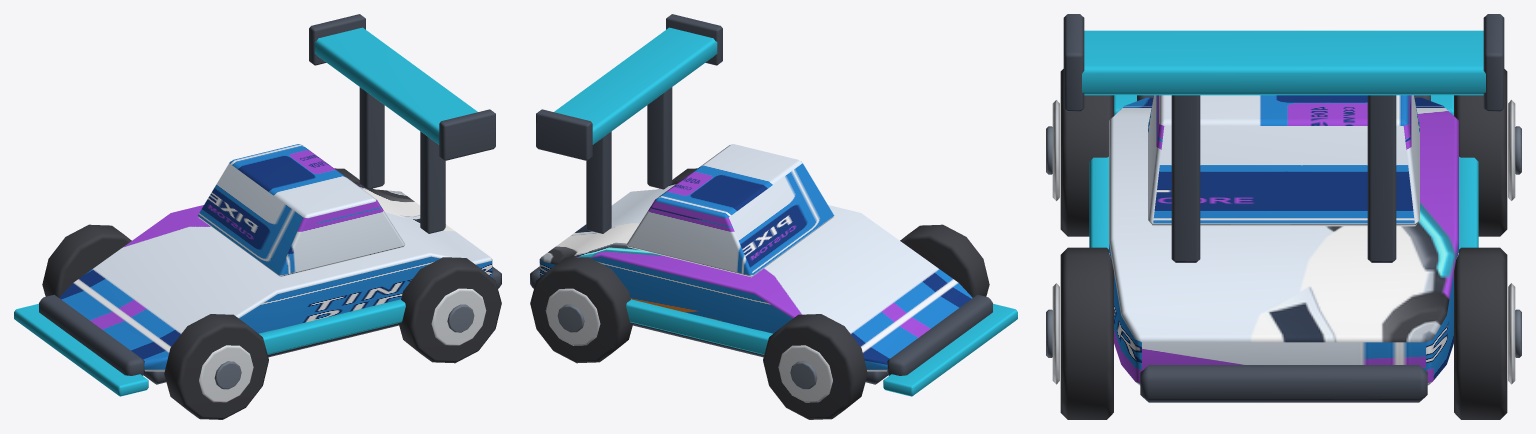
The picture shows the model from 3 angles, left to right: view 1: azimuth 30°, elevation 25°; view 2: azimuth 150°, elevation 25°; view 3: azimuth 270°, elevation 25°; orthographic projection. The views are drawn at different scales.
Parts seen in each view (by area): view 1: FF-01_connected_shell, FF-01_cabin, rear airfoil, Tire, Tire.002, Tire.001, custom side guard, custom chin, front bumper, wing support.001, wing endplate, wing support (+6 smaller); view 2: FF-01_connected_shell, FF-01_cabin, rear airfoil, Tire.001, Tire.003, Tire, custom side guard.001, custom chin, front bumper, wing support, wing endplate.001, wing support.001 (+6 smaller); view 3: FF-01_connected_shell, FF-01_cabin, rear airfoil, rear bumper, Tire.002, Tire.003, Tire, Tire.001, wing support, wing support.001, wing endplate, wing endplate.001 (+7 smaller).
Part boxes in pixels (<box>): FF-01_connected_shell: <box>59,184,492,371</box>; FF-01_cabin: <box>197,144,404,277</box>; rear airfoil: <box>314,27,477,144</box>; Tire: <box>164,314,268,419</box>; Tire.002: <box>398,257,501,363</box>; Tire.001: <box>42,224,131,297</box>; custom side guard: <box>259,299,405,354</box>; custom chin: <box>14,303,148,396</box>; front bumper: <box>39,294,144,375</box>; wing support.001: <box>359,87,384,189</box>; wing endplate: <box>439,109,495,160</box>; wing support: <box>420,131,445,233</box>; FF-01_connected_shell: <box>539,184,972,371</box>; FF-01_cabin: <box>627,144,834,277</box>; rear airfoil: <box>554,27,717,144</box>; Tire.001: <box>763,314,867,419</box>; Tire.003: <box>530,257,633,363</box>; Tire: <box>900,224,989,297</box>; custom side guard.001: <box>626,299,772,354</box>; custom chin: <box>883,303,1017,396</box>; front bumper: <box>887,294,992,375</box>; wing support: <box>647,87,672,189</box>; wing endplate.001: <box>536,109,592,160</box>; wing support.001: <box>586,131,611,233</box>; FF-01_connected_shell: <box>1109,97,1458,385</box>; FF-01_cabin: <box>1148,95,1419,226</box>; rear airfoil: <box>1082,30,1485,95</box>; rear bumper: <box>1140,365,1427,402</box>; Tire.002: <box>1060,247,1113,419</box>; Tire.003: <box>1454,247,1507,419</box>; Tire: <box>1060,69,1113,236</box>; Tire.001: <box>1454,69,1507,236</box>; wing support: <box>1171,95,1200,262</box>; wing support.001: <box>1367,95,1396,262</box>; wing endplate: <box>1063,14,1084,111</box>; wing endplate.001: <box>1483,14,1504,111</box>.
Bounding box in the file's own units: 356 × 209 × 231.
